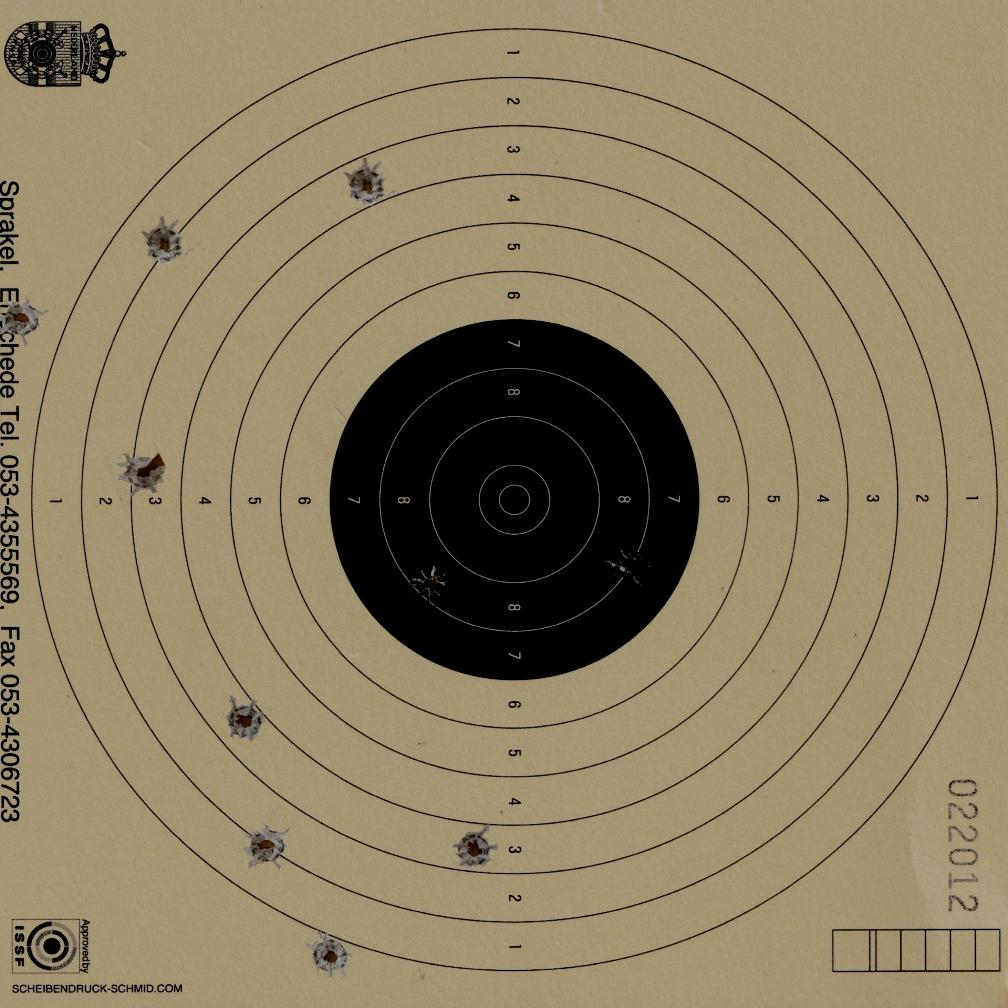0: (0, 290, 47, 346), (307, 934, 352, 976)
2: (139, 217, 192, 266), (241, 823, 290, 869)
3: (117, 447, 169, 496), (448, 822, 496, 874), (342, 160, 388, 205)
4: (224, 696, 265, 744)
8: (604, 546, 660, 591), (406, 564, 452, 607)
Target: (23, 24, 1000, 976)
black_contour: (329, 320, 698, 681)
